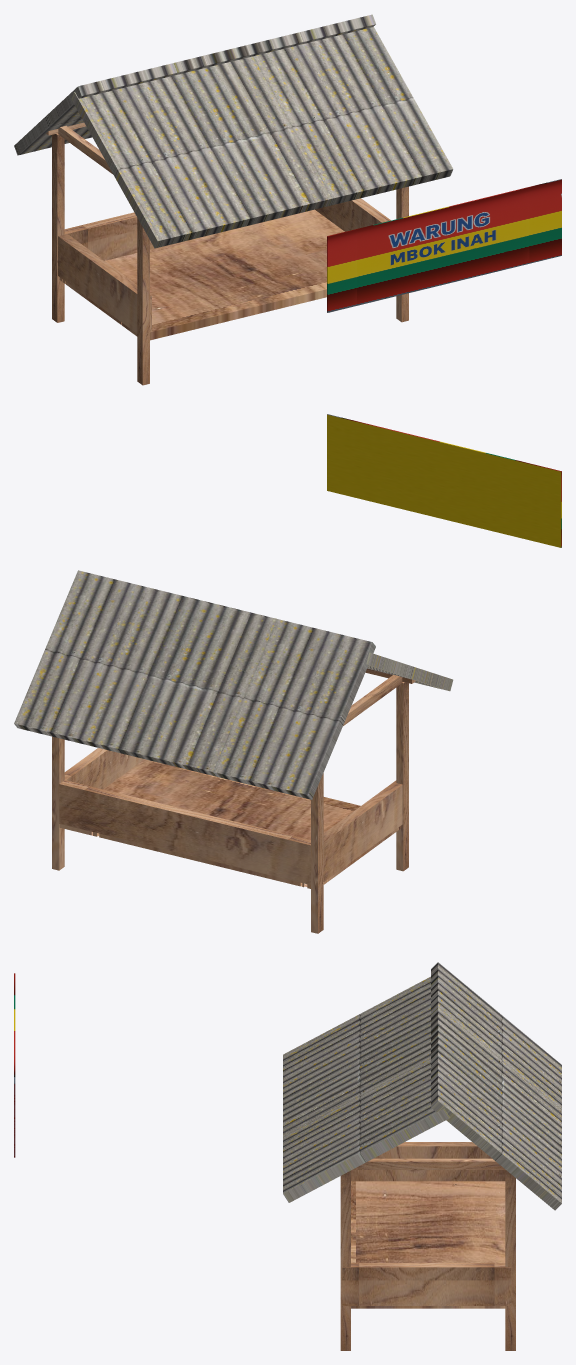
Rendered from pos ronda.fbx.
The picture shows the model from 3 angles, top to bottom: view 1: azimuth 30°, elevation 25°; view 2: azimuth 150°, elevation 25°; view 3: azimuth 270°, elevation 25°; orthographic projection. The views are drawn at different scales.
Parts seen in each view (by area): view 1: atap, Plane, Cube.001, Cube.003, atap.002, Cube.002, Cube.005; view 2: atap.002, Cube.003, Plane, Cube.001, Cube.002, atap, Cube.005; view 3: atap, atap.002, Cube.001, Cube.003, Cube.002, Cube.004.
Part boxes in pixels (x1,y1,x2,y2): atap: [71, 26, 453, 248]; Plane: [327, 179, 561, 312]; Cube.001: [59, 209, 344, 340]; Cube.003: [58, 188, 401, 333]; atap.002: [14, 14, 375, 155]; Cube.002: [52, 133, 408, 385]; Cube.005: [58, 125, 112, 173]; atap.002: [14, 570, 375, 799]; Cube.003: [52, 683, 403, 884]; Plane: [327, 414, 561, 547]; Cube.001: [59, 759, 401, 888]; Cube.002: [52, 682, 408, 933]; atap: [366, 652, 453, 691]; Cube.005: [343, 675, 402, 725]; atap: [283, 976, 449, 1202]; atap.002: [431, 962, 561, 1210]; Cube.001: [351, 1181, 505, 1308]; Cube.003: [341, 1142, 511, 1305]; Cube.002: [340, 1170, 515, 1350]; Cube.004: [352, 1158, 505, 1169].
Bounding box in the file's own units: 484 × 420 × 803.
